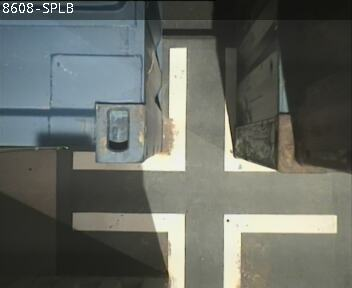groundmarker_1: (73, 47, 269, 170), (71, 210, 337, 287)
